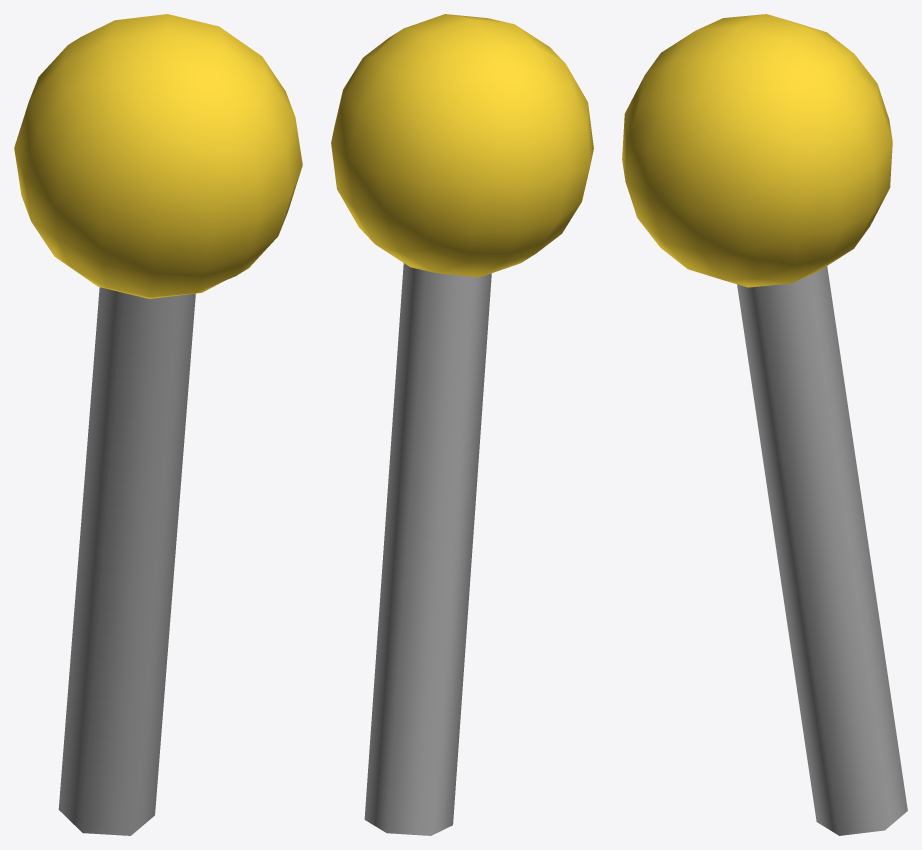
File: terminal_2_004.fbx
3 views of the same model, side by side, from view 1: azimuth 30°, elevation 25°; view 2: azimuth 150°, elevation 25°; view 3: azimuth 270°, elevation 25° (orthographic). The views are drawn at different scales.
Visible parts, largest first — view 1: terminal_2_004; view 2: terminal_2_004; view 3: terminal_2_004.
Boxes of the visible parts, box(x1,y1,x2,y2) form: terminal_2_004: box(14, 14, 302, 835); terminal_2_004: box(331, 14, 593, 835); terminal_2_004: box(622, 14, 907, 835).
Size of the model in its own units: 34 by 35.58 by 109.
